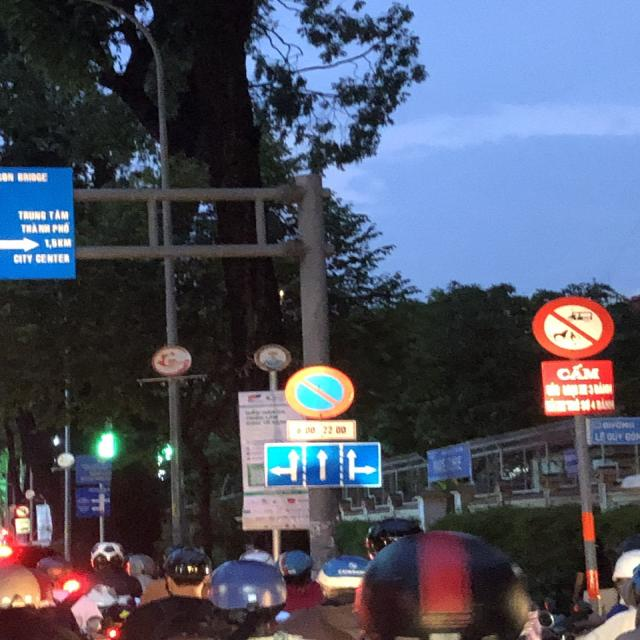Bien bao cam do xe: (274, 359, 362, 417)
